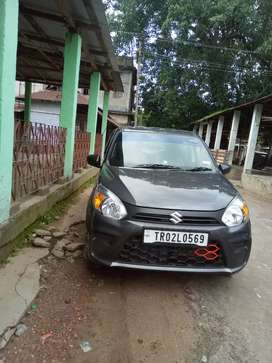TR02L0569: (143, 228, 208, 246)
